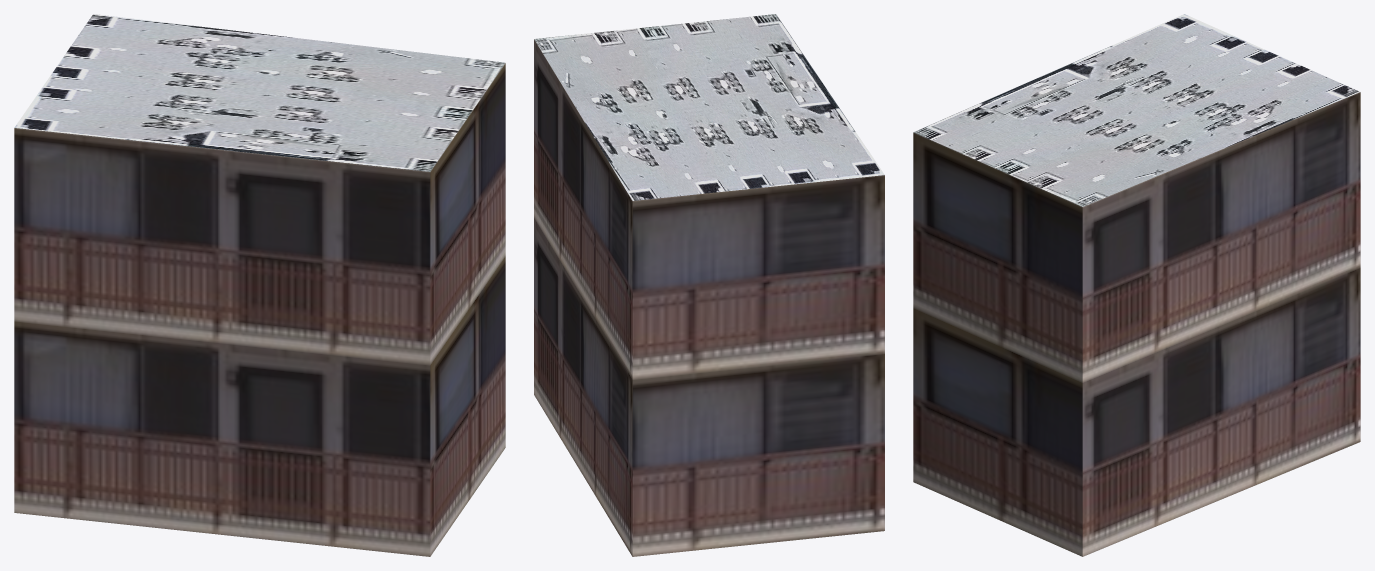
File: ResTex__27.fbx
3 renders of one model, left to right at view 1: azimuth 30°, elevation 25°; view 2: azimuth 150°, elevation 25°; view 3: azimuth 270°, elevation 25°, orthographic. The views are drawn at different scales.
Parts seen in each view (by area): view 1: CityEngineMaterial_6_m, CityEngineMaterial_m; view 2: CityEngineMaterial_6_m, CityEngineMaterial_m; view 3: CityEngineMaterial_6_m, CityEngineMaterial_m.
Boxes of the visible parts, left/top/right/bottom form: CityEngineMaterial_6_m: left=14, top=63, right=505, bottom=556; CityEngineMaterial_m: left=14, top=14, right=505, bottom=171; CityEngineMaterial_6_m: left=534, top=39, right=884, bottom=556; CityEngineMaterial_m: left=534, top=14, right=884, bottom=200; CityEngineMaterial_6_m: left=913, top=92, right=1360, bottom=556; CityEngineMaterial_m: left=913, top=14, right=1359, bottom=206.
Size of the model in its own units: 7.1 by 6 by 6.95.
2 materials, 2 textured.
